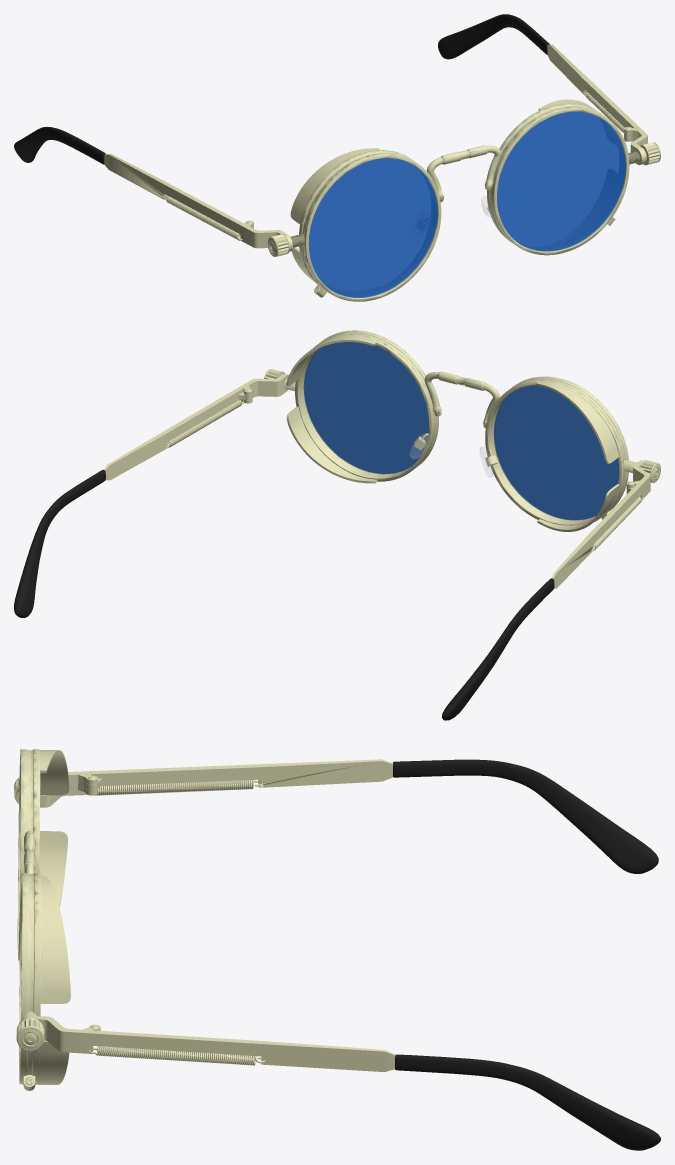
The model's file is glasses2.glb.
3 renders of one model, top to bottom at view 1: azimuth 30°, elevation 25°; view 2: azimuth 150°, elevation 25°; view 3: azimuth 270°, elevation 25°, orthographic. The views are drawn at different scales.
Parts seen in each view (by area): view 1: Object_2.001, Object_6, Object_4, Object_5; view 2: Object_2.001, Object_6, Object_4, Object_5, Object_3.001; view 3: Object_6, Object_4, Object_5.
Part boxes in pixels (box(x1,y1,x2,y2)): Object_2.001: box(308, 111, 625, 297); Object_6: box(104, 44, 660, 301); Object_4: box(14, 14, 549, 164); Object_5: box(290, 99, 594, 280); Object_2.001: box(303, 342, 619, 520); Object_6: box(104, 330, 660, 588); Object_4: box(14, 469, 554, 720); Object_5: box(286, 336, 619, 531); Object_3.001: box(409, 433, 492, 477); Object_6: box(14, 749, 395, 1090); Object_4: box(393, 759, 660, 1150); Object_5: box(38, 750, 70, 1084).
Size of the model in its own units: 135 by 39.83 by 121.
